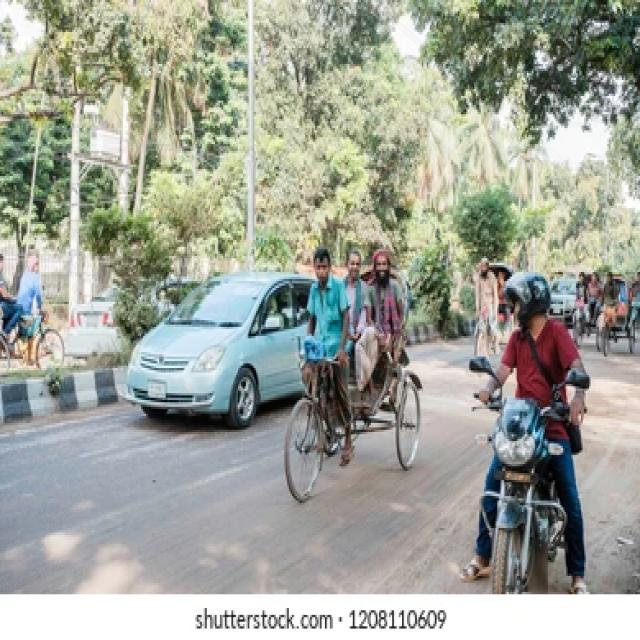bike: (468, 374, 584, 588)
car: (115, 261, 318, 421)
rickshaw: (277, 268, 434, 491)
